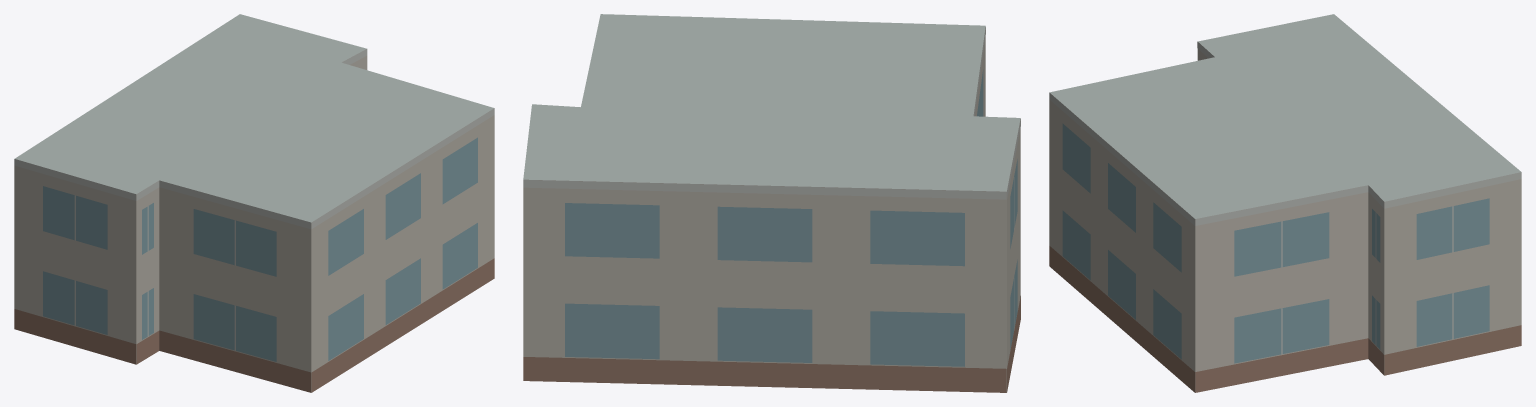
File: survey-upis-32749303.glb
3 views of the same model, side by side, from view 1: azimuth 30°, elevation 25°; view 2: azimuth 150°, elevation 25°; view 3: azimuth 270°, elevation 25° (orthographic). The views are drawn at different scales.
Visible parts, largest first — view 1: survey-upis-32749303.tmp; view 2: survey-upis-32749303.tmp; view 3: survey-upis-32749303.tmp.
Boxes of the visible parts, x1,y1,x2,y2 form: survey-upis-32749303.tmp: (14,14,494,392); survey-upis-32749303.tmp: (523,14,1020,392); survey-upis-32749303.tmp: (1049,14,1521,392).
Size of the model in its own units: 15.45 by 6.1 by 15.04.
